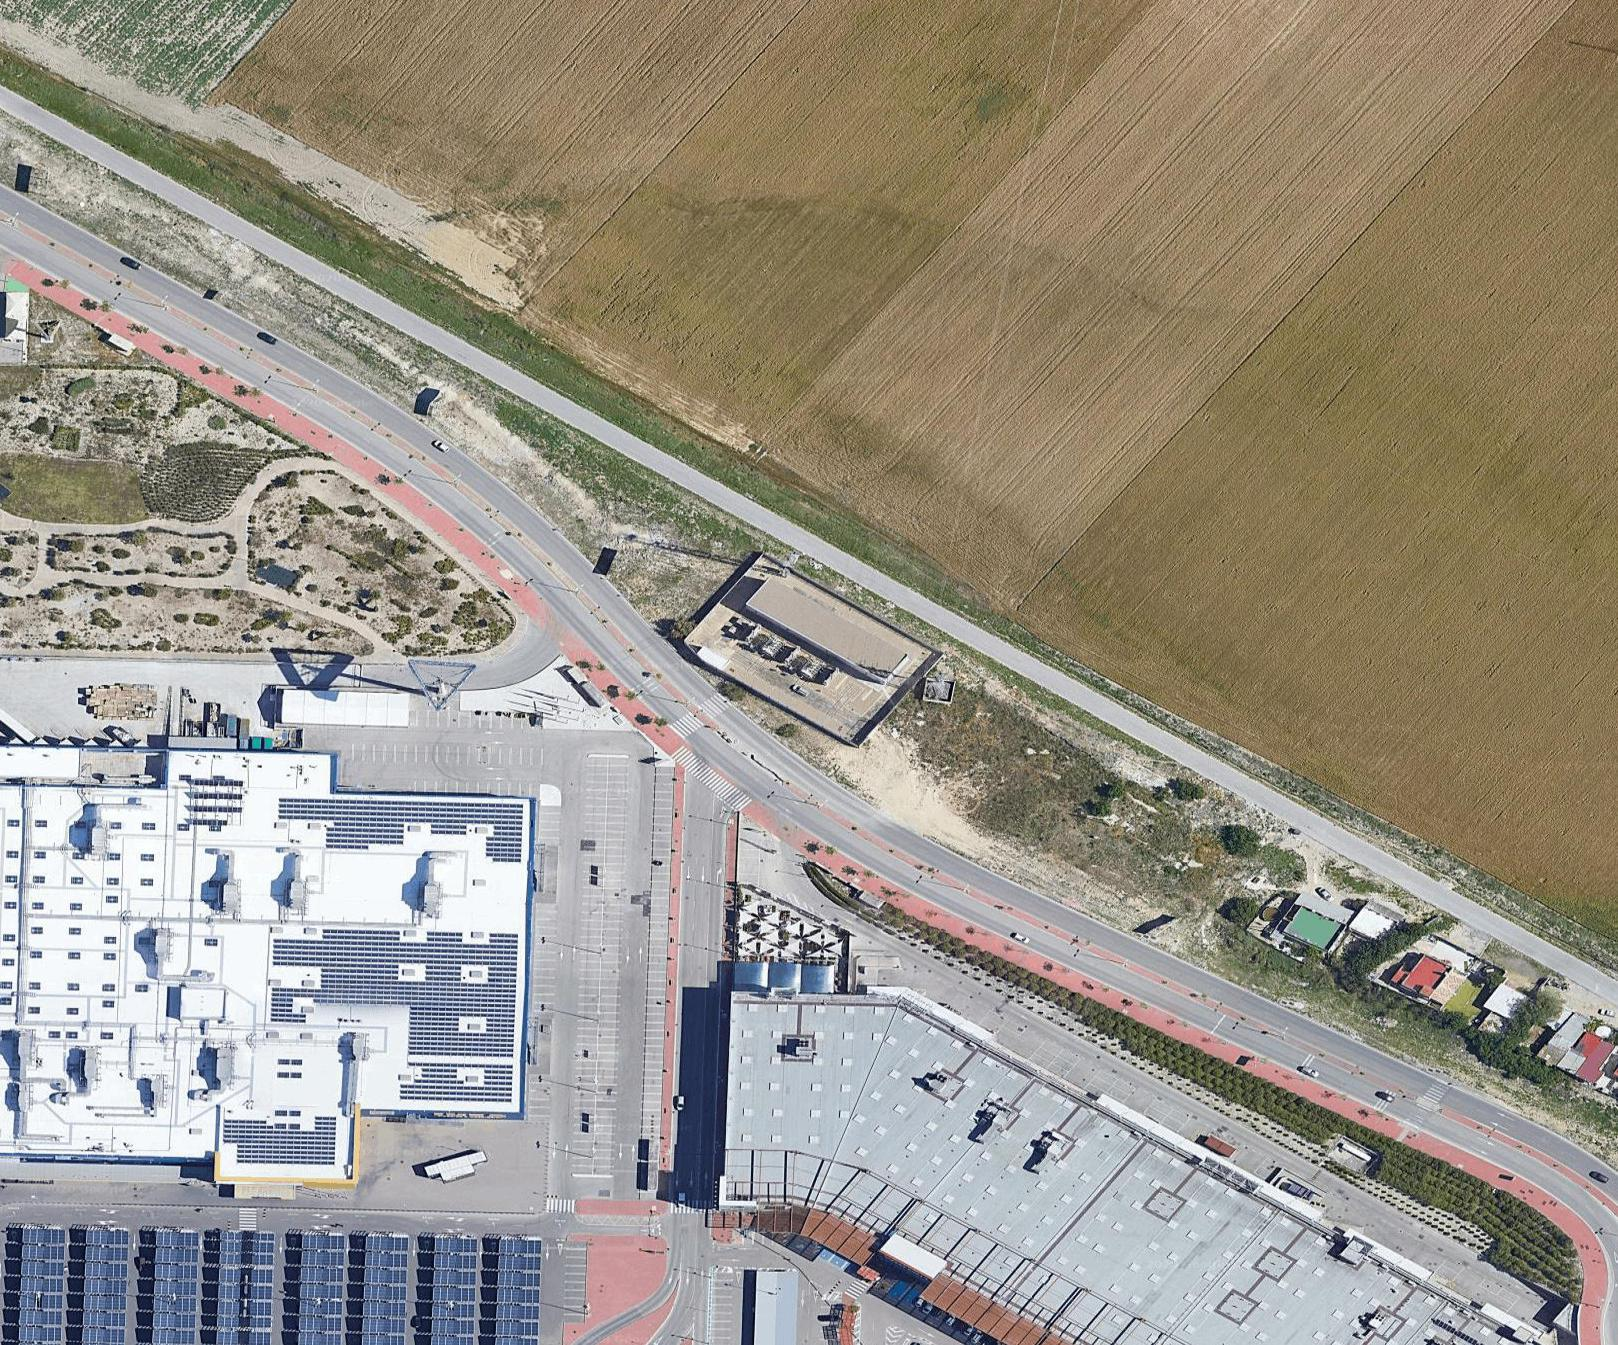substation: (715, 609, 843, 693)
